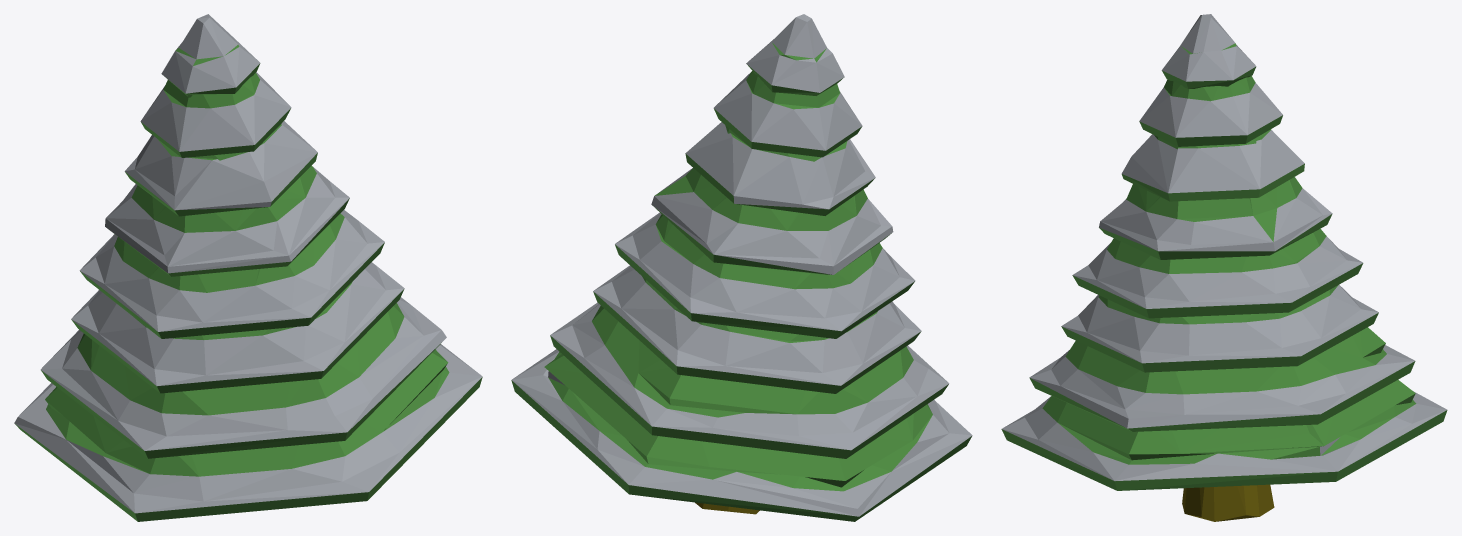
File: tree 1.fbx
The picture shows the model from 3 angles, left to right: view 1: azimuth 30°, elevation 25°; view 2: azimuth 150°, elevation 25°; view 3: azimuth 270°, elevation 25°; orthographic projection. The views are drawn at different scales.
Parts seen in each view (by area): view 1: Cylinder.019; view 2: Cylinder.019; view 3: Cylinder.019.
Boxes of the visible parts, x1,y1,x2,y2 form: Cylinder.019: [14, 14, 482, 521]; Cylinder.019: [511, 14, 972, 521]; Cylinder.019: [1001, 14, 1447, 521].
Bounding box in the file's own units: 214 × 288 × 247.
